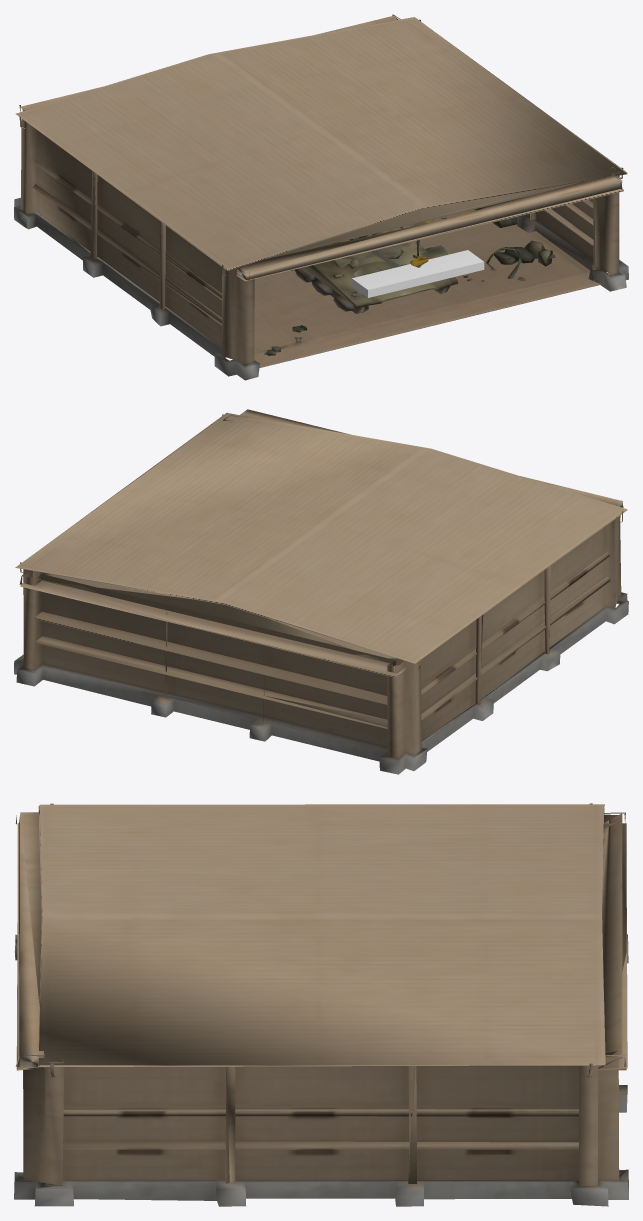
Rendered from us-vehicle-factory.glb.
3 renders of one model, top to bottom at view 1: azimuth 30°, elevation 25°; view 2: azimuth 150°, elevation 25°; view 3: azimuth 270°, elevation 25°, orthographic. The views are drawn at different scales.
Parts seen in each view (by area): view 1: us-vehicle-factory; view 2: us-vehicle-factory; view 3: us-vehicle-factory.
Boxes of the visible parts, bbox=[...] form: us-vehicle-factory: bbox=[14, 14, 628, 380]; us-vehicle-factory: bbox=[14, 409, 628, 774]; us-vehicle-factory: bbox=[14, 803, 628, 1206].
Size of the model in its own units: 3.44 by 0.99 by 3.44.
2 materials, 1 textured.
